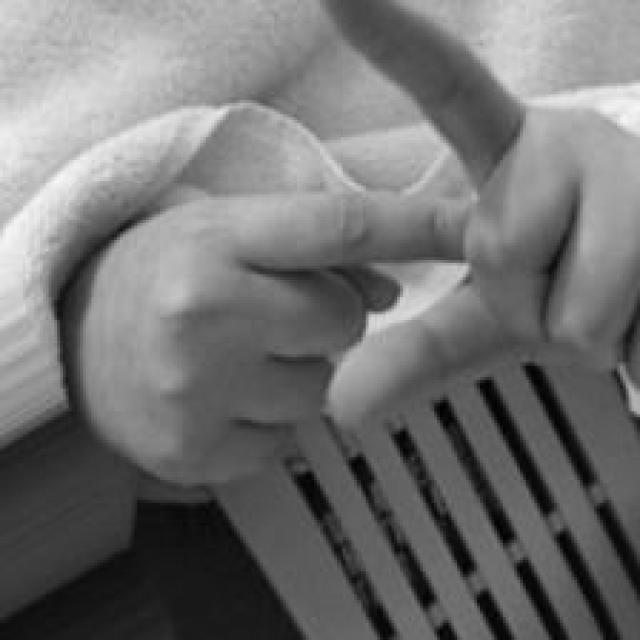J: (71, 0, 640, 486)
